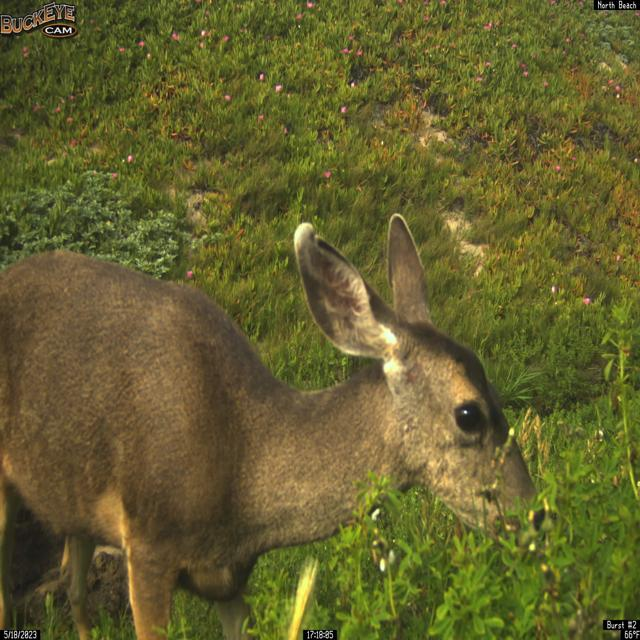deer: (1, 212, 547, 640)
